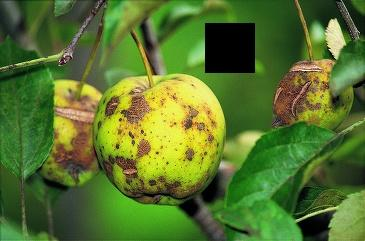rotten apple: (94, 73, 232, 208), (24, 75, 103, 190), (268, 58, 361, 138)
